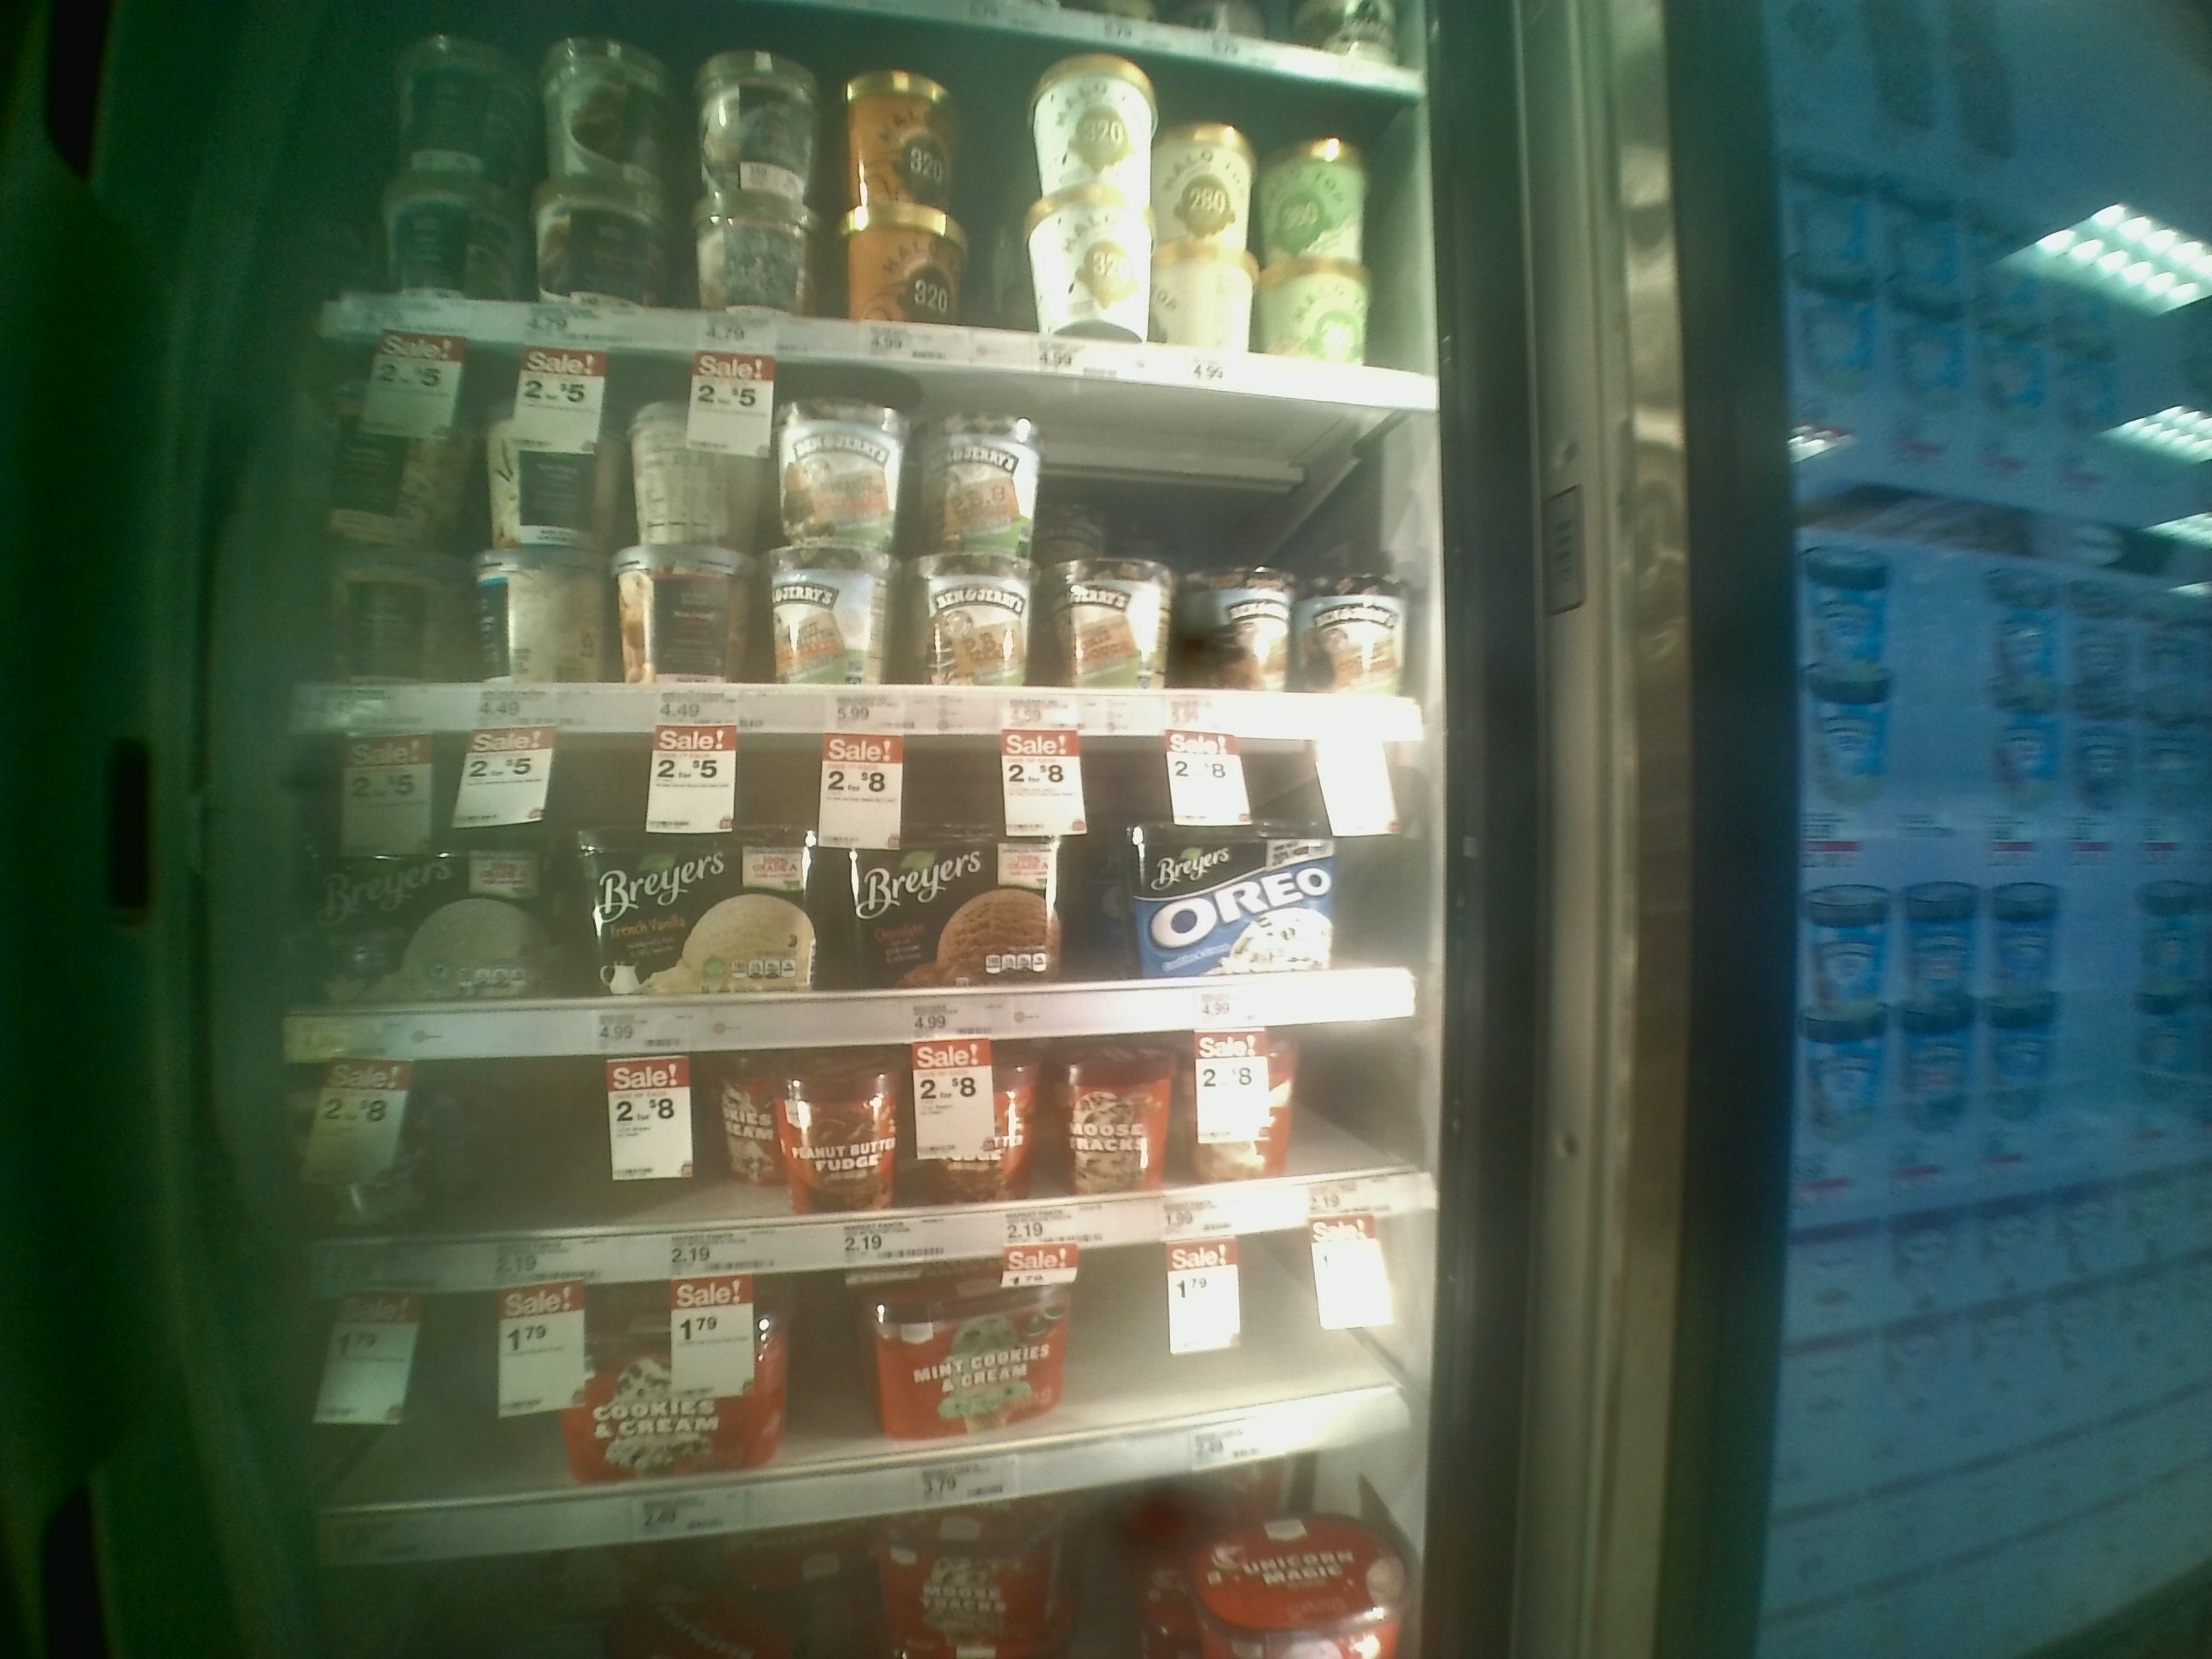shelf: (291, 324, 1439, 727), (291, 727, 1439, 1040), (289, 1044, 1447, 1265)
